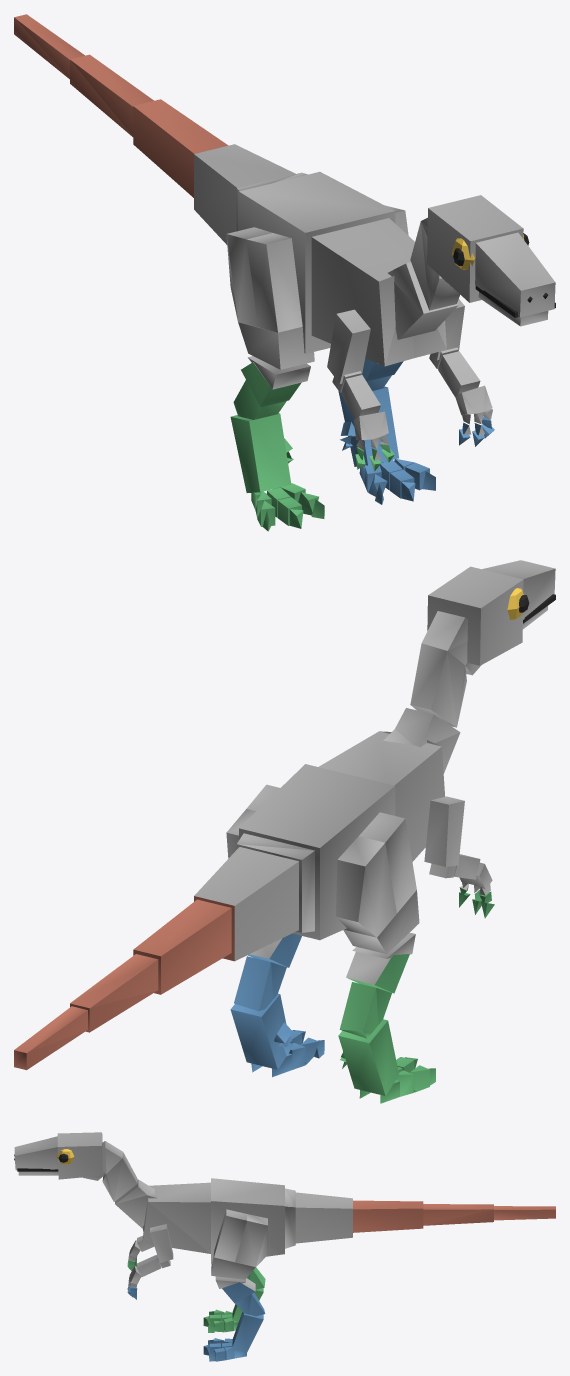
Rendered from coelo.fbx.
3 renders of one model, top to bottom at view 1: azimuth 30°, elevation 25°; view 2: azimuth 150°, elevation 25°; view 3: azimuth 270°, elevation 25°, orthographic. The views are drawn at different scales.
Visible parts, largest first — view 1: coelo_Body, coelo_Tail, coelo_LegR, coelo_LegL; view 2: coelo_Body, coelo_Tail, coelo_LegR, coelo_LegL; view 3: coelo_Body, coelo_Tail, coelo_LegL, coelo_LegR.
Part boxes in pixels (x1=…): coelo_Body: x1=194, y1=144, x2=555, y2=460; coelo_Tail: x1=14, y1=14, x2=228, y2=197; coelo_LegR: x1=230, y1=362, x2=394, y2=531; coelo_LegL: x1=338, y1=358, x2=494, y2=504; coelo_Body: x1=194, y1=560, x2=555, y2=984; coelo_Tail: x1=14, y1=896, x2=234, y2=1070; coelo_LegR: x1=338, y1=884, x2=494, y2=1103; coelo_LegL: x1=230, y1=933, x2=324, y2=1077; coelo_Body: x1=14, y1=1132, x2=352, y2=1291; coelo_Tail: x1=353, y1=1200, x2=555, y2=1232; coelo_LegL: x1=127, y1=1281, x2=265, y2=1361; coelo_LegR: x1=127, y1=1256, x2=265, y2=1332.
Bounding box in the file's own units: 1.78 × 3.88 × 9.47.
